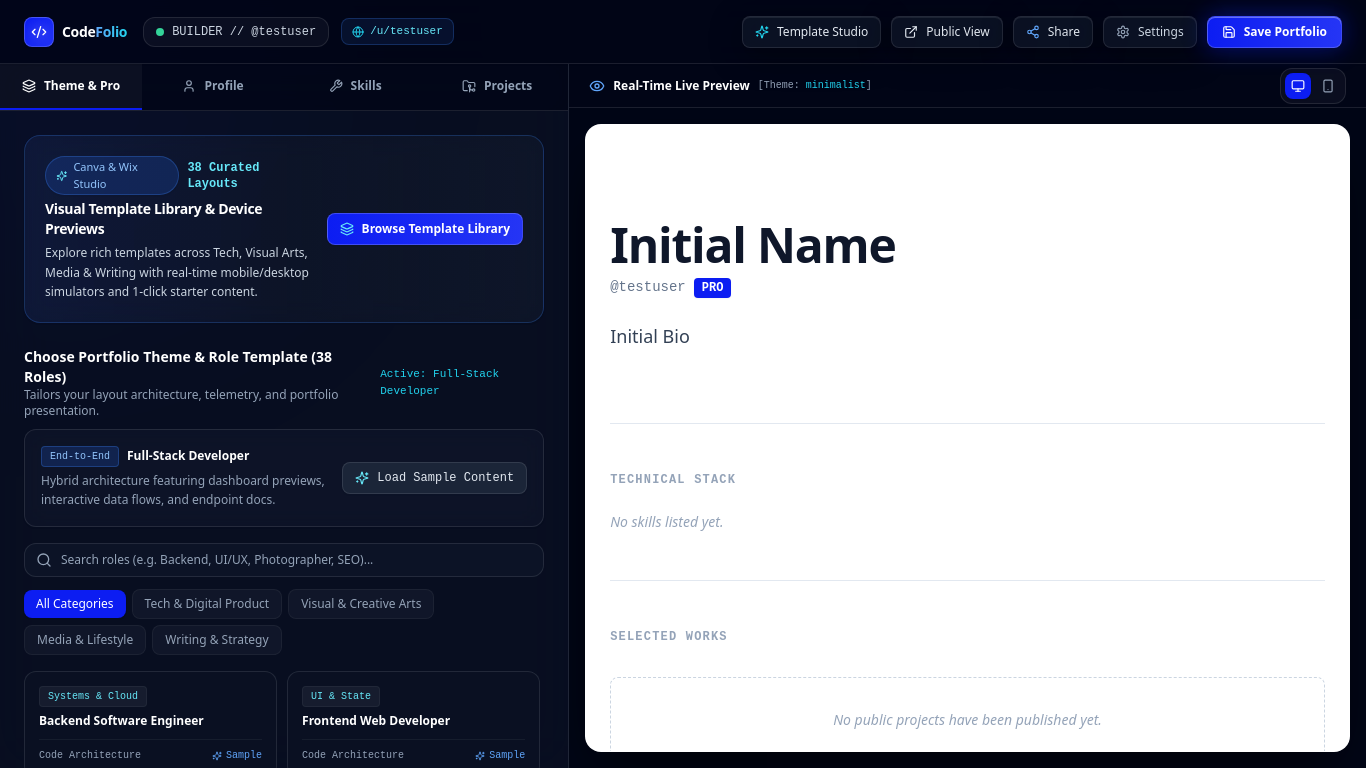
it: ROLE TAXONOMY & TEMPLATE LAYOUT ENGINES TEST SUITE › 3. Split-Screen Builder Role Selector & Sample Data Pre-fill › should load role starter preset into form when Load Sample Content is clicked
Expected: the heading "Choose Portfolio Theme & Role Template (38 Roles)" is shown, [24,346,372,386]
Find "Load Sample Content" button
Click the button "Load Sample Content": coordinates (435, 478) [342,462,527,494]
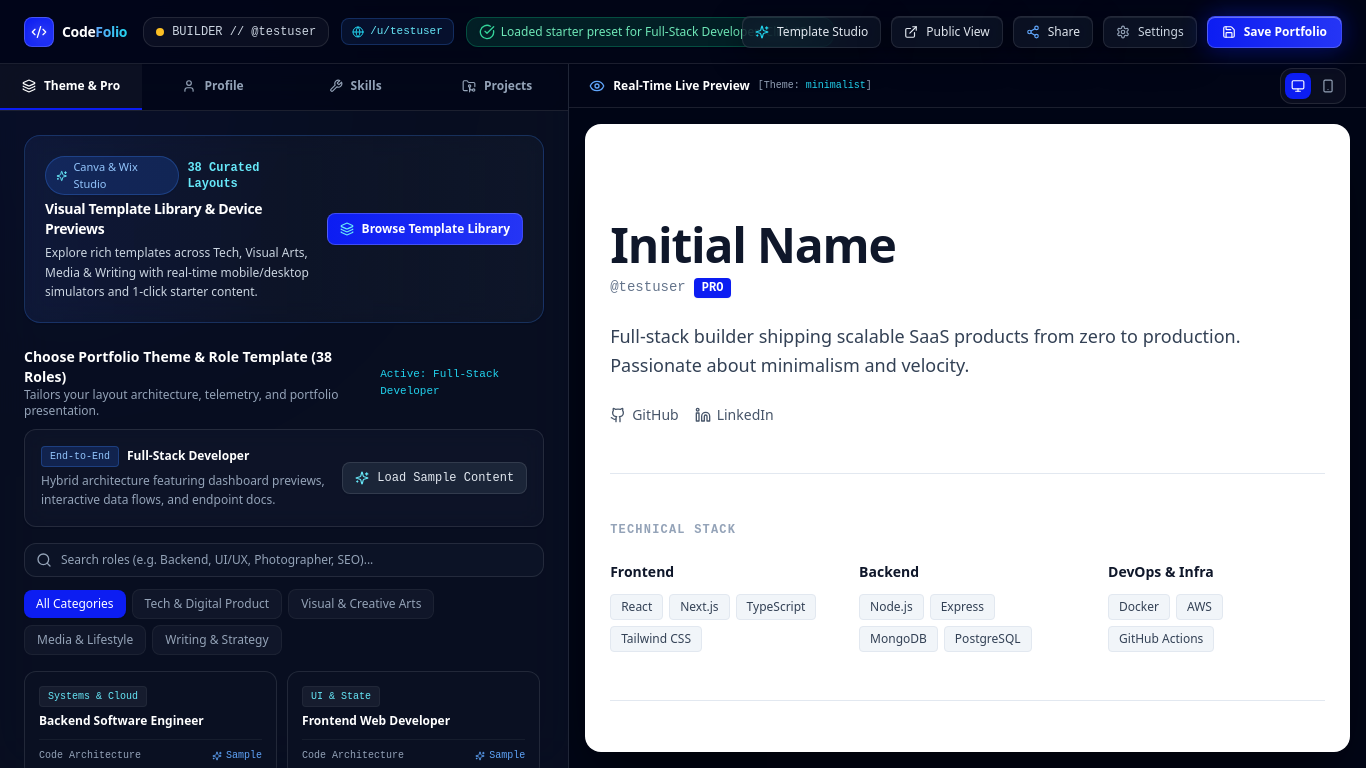
Now the text "Loaded starter preset for" is shown, box [501,22,945,40]
Switch to Profile tab and verify user name remains authentic 'testuser', NOT sample persona
Click the button "Profile": coordinates (213, 87) [142,64,284,110]
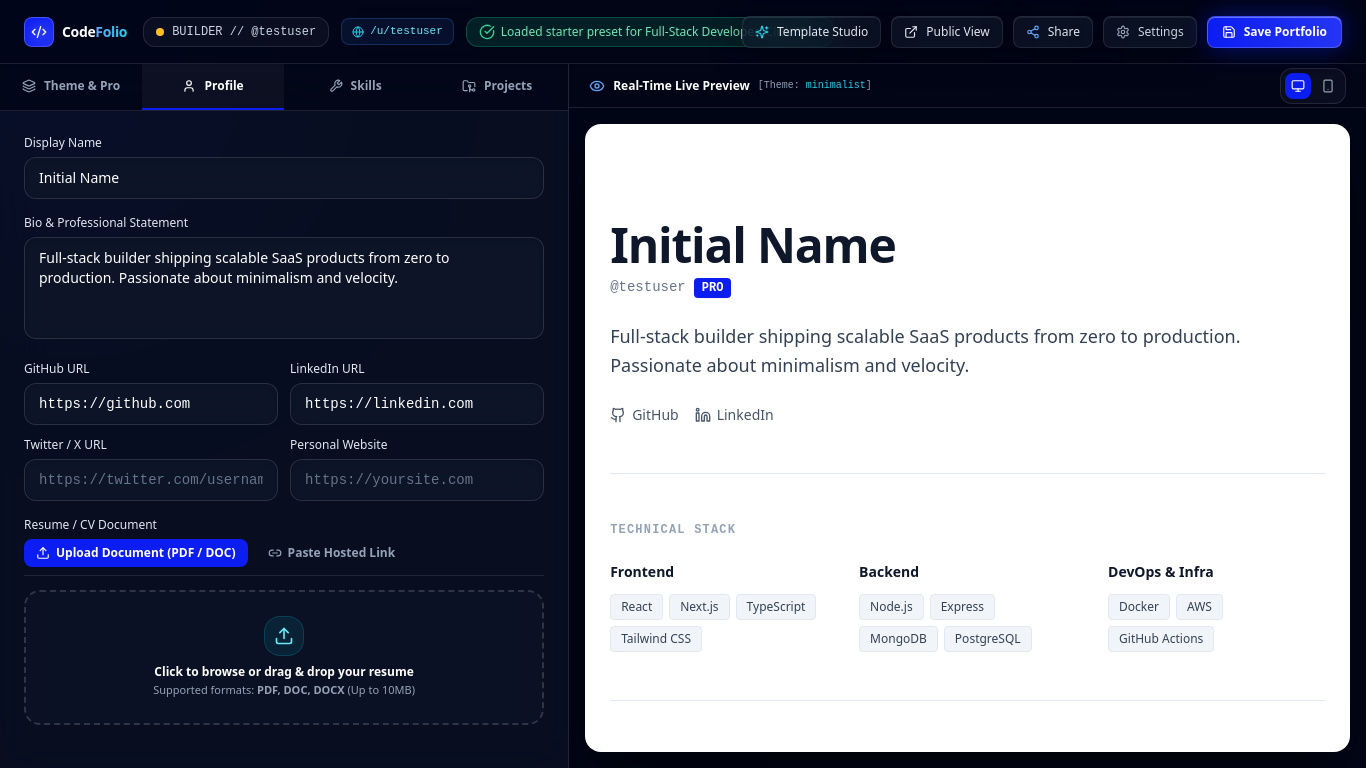
Now the field showing "Initial Name" below "Display Name" is shown, box [24,157,544,199]
